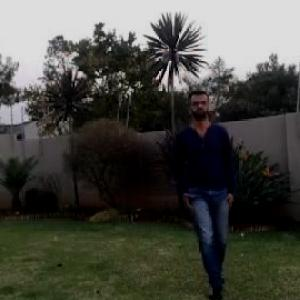follow: (166, 57, 248, 299)
